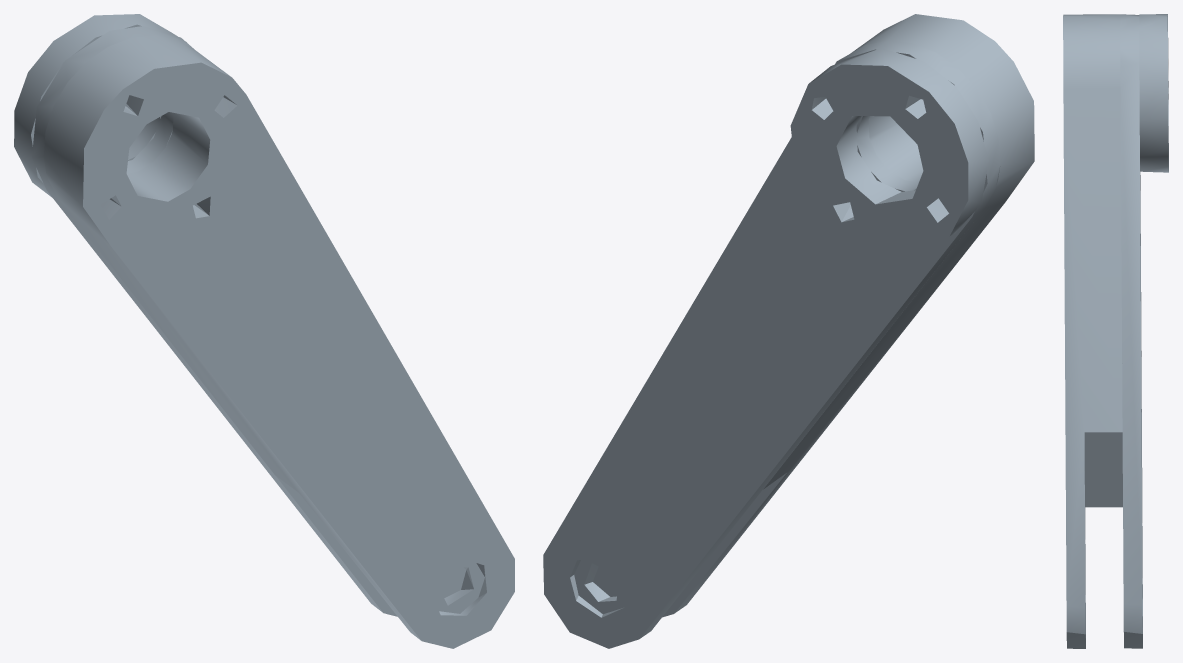
3 views of the same model, side by side, from view 1: azimuth 30°, elevation 25°; view 2: azimuth 150°, elevation 25°; view 3: azimuth 270°, elevation 25° (orthographic). The views are drawn at different scales.
Visible parts, largest first — view 1: tmp_export_fr_link1.002; view 2: tmp_export_fr_link1.002; view 3: tmp_export_fr_link1.002.
Part boxes in pixels (<box>): tmp_export_fr_link1.002: <box>14,14,514,648</box>; tmp_export_fr_link1.002: <box>543,14,1034,648</box>; tmp_export_fr_link1.002: <box>1063,14,1168,648</box>.
Size of the model in its own units: 0.062 by 0.0167 by 0.0891.
